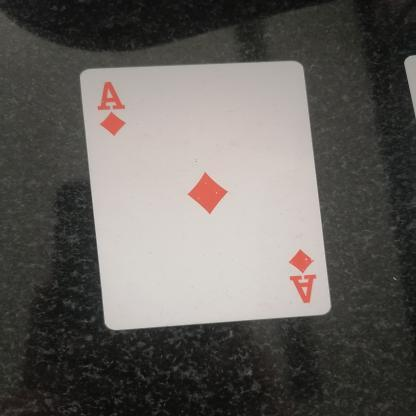AD: (266, 231, 324, 313), (93, 75, 138, 142)
